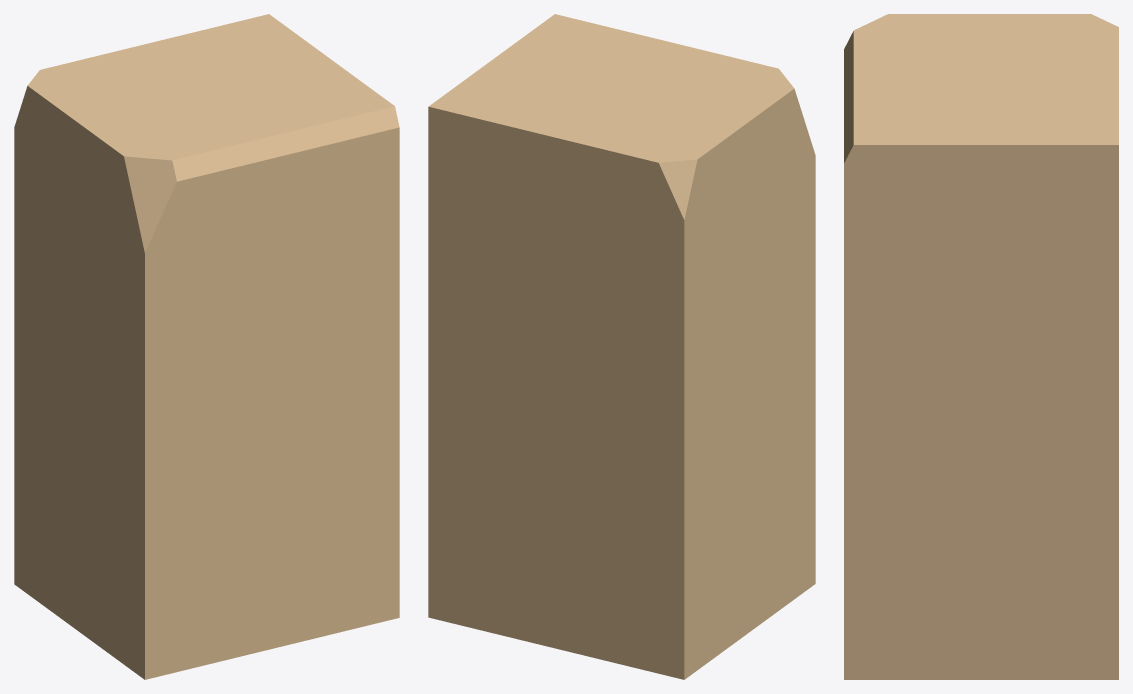
The model's file is bigrock.fbx.
The picture shows the model from 3 angles, left to right: view 1: azimuth 30°, elevation 25°; view 2: azimuth 150°, elevation 25°; view 3: azimuth 270°, elevation 25°; orthographic projection. The views are drawn at different scales.
Visible parts, largest first — view 1: Cube.030; view 2: Cube.030; view 3: Cube.030.
Boxes of the visible parts, box(x1,y1,x2,y2) form: Cube.030: box(14, 14, 399, 679); Cube.030: box(428, 14, 815, 679); Cube.030: box(844, 14, 1118, 679).
Size of the model in its own units: 324 by 618 by 288.
